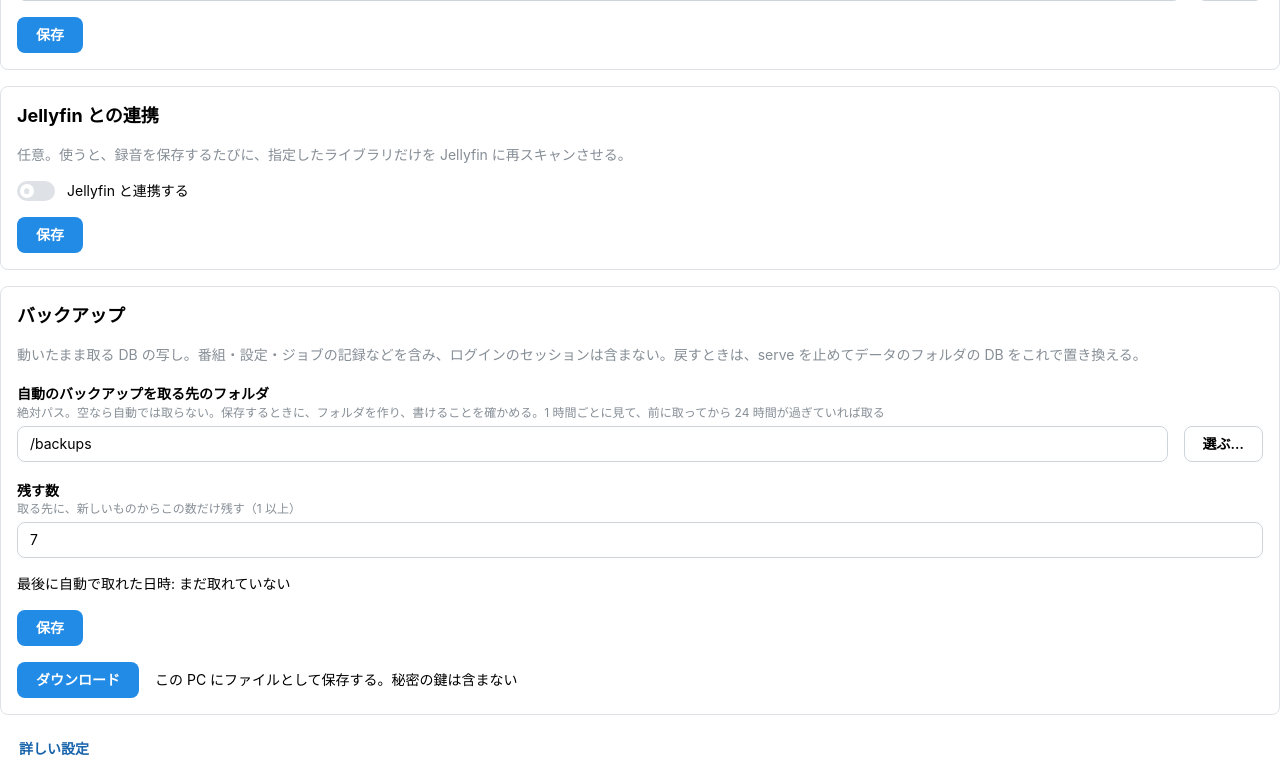
Test case: SettingsPage の自動のバックアップ › 取る先と残す数を変えて保存すると、backup_dir と backup_keep を送る
The width and height of the screenshot is (1280, 767).
(page scrolled)
Type "/mnt/backups" into the field labelled "自動のバックアップを取る先のフォルダ".
click(592, 444); type("/mnt/backups")  # box [17,426,1168,462]
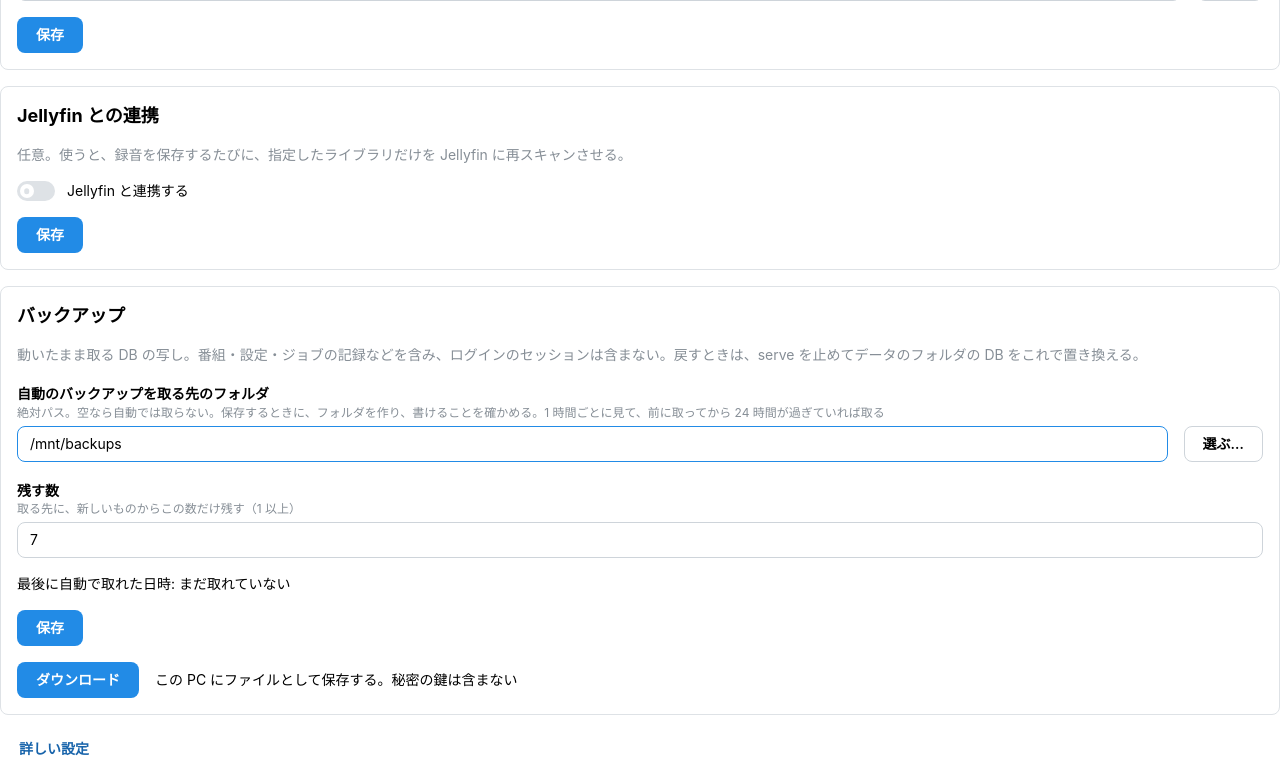
Replace the text in the field labelled "残す数" with "3" at x=640, y=540, box [17,522,1263,558]
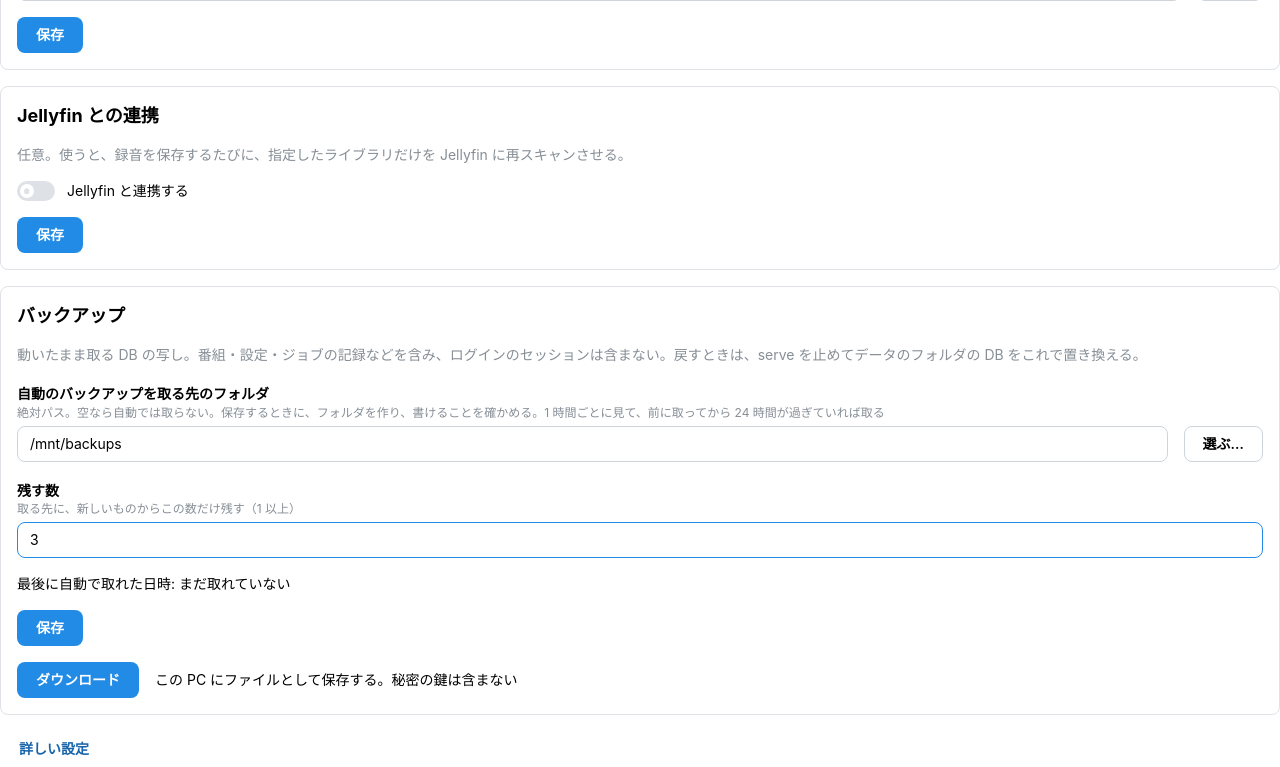
Click the button "保存" below "最後に自動で取れた日時:".
click(50, 628)  # box [17,610,83,646]
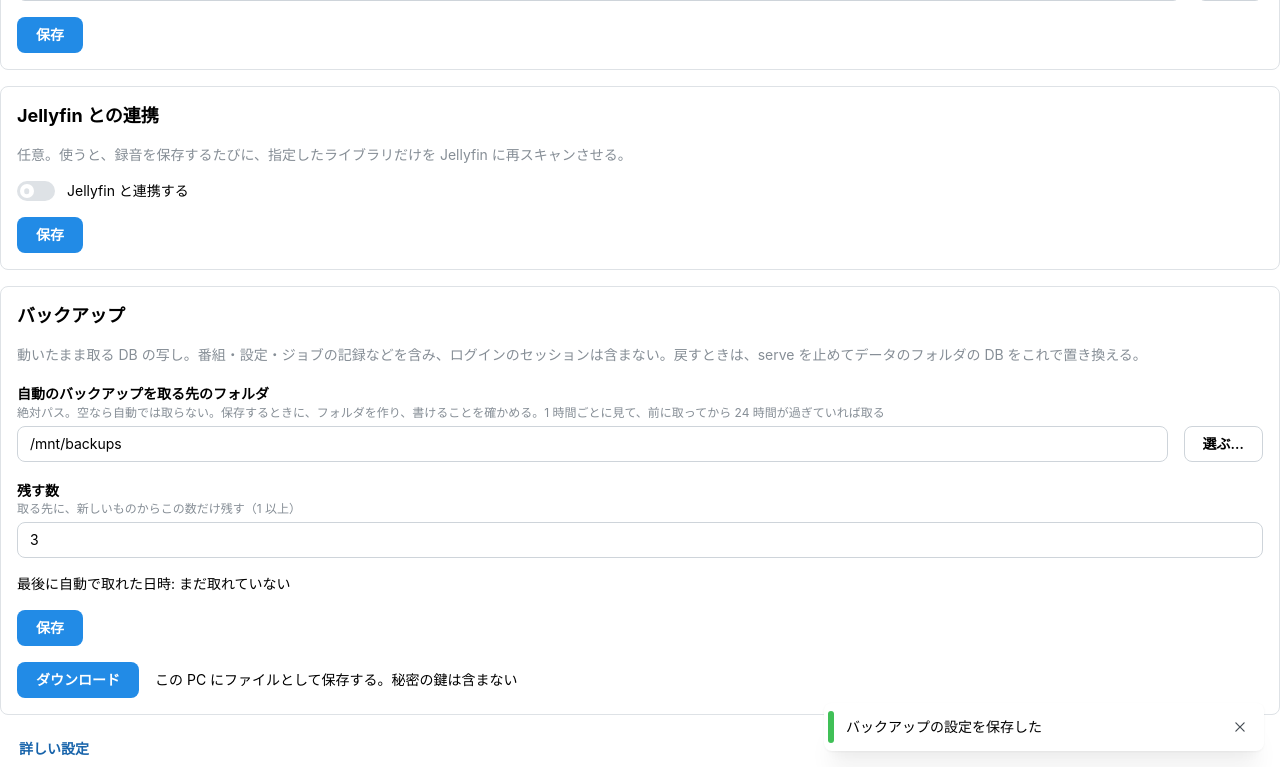
expect the text "バックアップの設定を保存した" is shown: met, box [846,718,1042,735]
